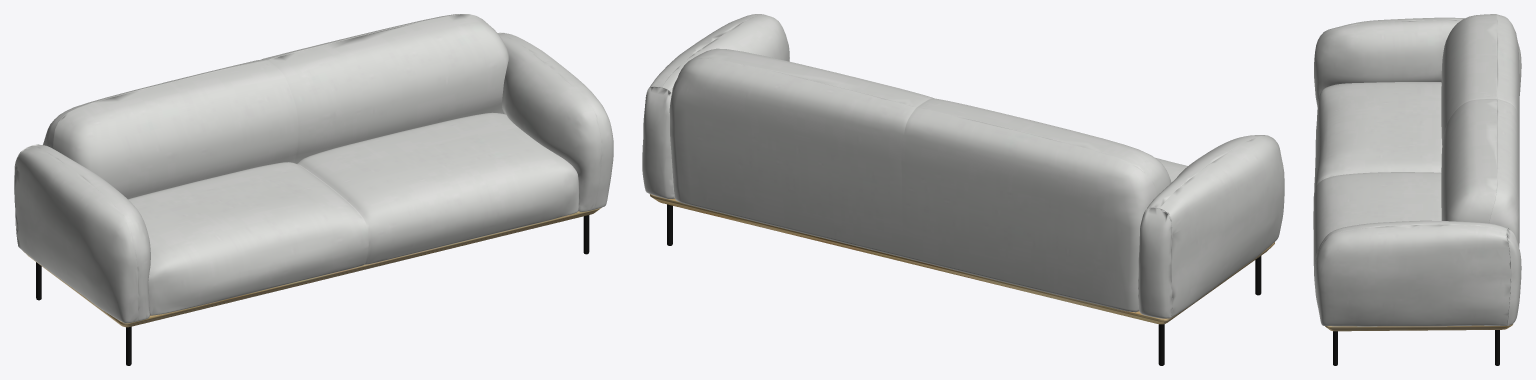
The picture shows the model from 3 angles, left to right: view 1: azimuth 30°, elevation 25°; view 2: azimuth 150°, elevation 25°; view 3: azimuth 270°, elevation 25°; orthographic projection. The views are drawn at different scales.
Visible parts, largest first — view 1: RootNode; view 2: RootNode; view 3: RootNode.
Part boxes in pixels (x1,y1,x2,y2): RootNode: [14, 14, 613, 365]; RootNode: [642, 14, 1284, 365]; RootNode: [1313, 14, 1521, 365].
Size of the model in its own units: 2.26 by 0.7797 by 0.88.
1 material, 1 textured.
